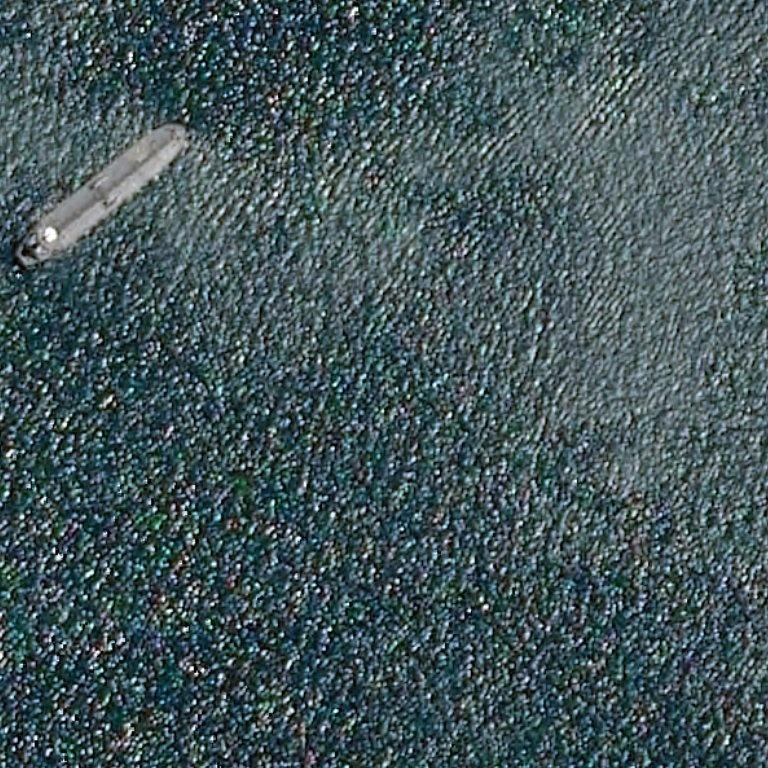ship: (25, 70, 179, 241)
